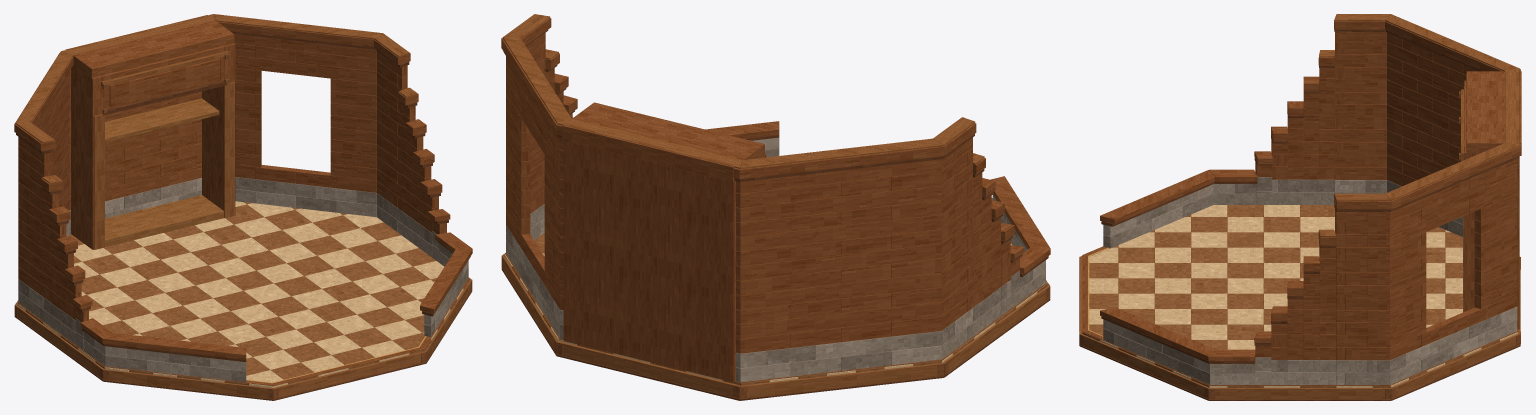
The model's file is OctagonalShell.glb.
The picture shows the model from 3 angles, left to right: view 1: azimuth 30°, elevation 25°; view 2: azimuth 150°, elevation 25°; view 3: azimuth 270°, elevation 25°; orthographic projection. The views are drawn at different scales.
Parts seen in each view (by area): view 1: OctagonalShell.CheckerTiles, OctagonalShell.Courses.3, OctagonalShell.Niche.Header, OctagonalShell.Courses.6, OctagonalShell.Courses.4, OctagonalShell.Courses.2, OctagonalShell.Niche.Jamb.-1, OctagonalShell.Niche.Jamb.1, OctagonalShell.Niche.LintelFacing, OctagonalShell.Courses.7, OctagonalShell.Coping.6, OctagonalShell.Coping.3 (+13 smaller); view 2: OctagonalShell.Courses.5, OctagonalShell.Niche.Back, OctagonalShell.Courses.6, OctagonalShell.Courses.3, OctagonalShell.Niche.Header, OctagonalShell.Coping.5, OctagonalShell.Rim.5, OctagonalShell.Rim.4, OctagonalShell.Coping.6, OctagonalShell.Coping.3, OctagonalShell.Courses.2, OctagonalShell.Coping.4 (+7 smaller); view 3: OctagonalShell.CheckerTiles, OctagonalShell.Courses.3, OctagonalShell.Courses.2, OctagonalShell.Courses.6, OctagonalShell.Courses.5, OctagonalShell.Niche.Header, OctagonalShell.Coping.2, OctagonalShell.Coping.6, OctagonalShell.Coping.3, OctagonalShell.Coping.5, OctagonalShell.Courses.7, OctagonalShell.Courses.1 (+9 smaller).
Part boxes in pixels (bbox=[...]): OctagonalShell.CheckerTiles: bbox=[17, 201, 469, 387]; OctagonalShell.Courses.3: bbox=[234, 33, 376, 217]; OctagonalShell.Niche.Header: bbox=[65, 15, 234, 246]; OctagonalShell.Courses.6: bbox=[18, 137, 105, 365]; OctagonalShell.Courses.4: bbox=[69, 69, 201, 233]; OctagonalShell.Courses.2: bbox=[377, 51, 452, 266]; OctagonalShell.Niche.Jamb.-1: bbox=[71, 65, 104, 249]; OctagonalShell.Niche.Jamb.1: bbox=[202, 43, 235, 218]; OctagonalShell.Niche.LintelFacing: bbox=[101, 51, 228, 115]; OctagonalShell.Courses.7: bbox=[105, 346, 246, 382]; OctagonalShell.Coping.6: bbox=[14, 122, 112, 345]; OctagonalShell.Coping.3: bbox=[213, 14, 382, 49]; OctagonalShell.Courses.5: bbox=[740, 159, 941, 382]; OctagonalShell.Niche.Back: bbox=[564, 141, 734, 382]; OctagonalShell.Courses.6: bbox=[941, 137, 1045, 359]; OctagonalShell.Courses.3: bbox=[506, 56, 559, 337]; OctagonalShell.Niche.Header: bbox=[562, 102, 764, 181]; OctagonalShell.Coping.5: bbox=[740, 138, 944, 181]; OctagonalShell.Rim.5: bbox=[740, 363, 944, 400]; OctagonalShell.Rim.4: bbox=[556, 341, 739, 400]; OctagonalShell.Coping.6: bbox=[933, 117, 1050, 277]; OctagonalShell.Coping.3: bbox=[501, 37, 571, 136]; OctagonalShell.Courses.2: bbox=[526, 33, 572, 240]; OctagonalShell.Coping.4: bbox=[556, 118, 742, 181]; OctagonalShell.CheckerTiles: bbox=[1082, 205, 1517, 387]; OctagonalShell.Courses.3: bbox=[1390, 159, 1517, 384]; OctagonalShell.Courses.2: bbox=[1210, 209, 1389, 384]; OctagonalShell.Courses.6: bbox=[1213, 32, 1386, 204]; OctagonalShell.Courses.5: bbox=[1387, 32, 1478, 236]; OctagonalShell.Niche.Header: bbox=[1464, 71, 1521, 159]; OctagonalShell.Coping.2: bbox=[1208, 193, 1391, 363]; OctagonalShell.Coping.6: bbox=[1209, 14, 1390, 183]; OctagonalShell.Coping.3: bbox=[1385, 143, 1520, 211]; OctagonalShell.Coping.5: bbox=[1385, 14, 1520, 71]; OctagonalShell.Courses.7: bbox=[1103, 184, 1213, 248]; OctagonalShell.Courses.1: bbox=[1103, 319, 1210, 384].
Bounding box in the file's own units: 8.09 × 4.09 × 8.1.
Materials: 13 (13 with a texture image).
